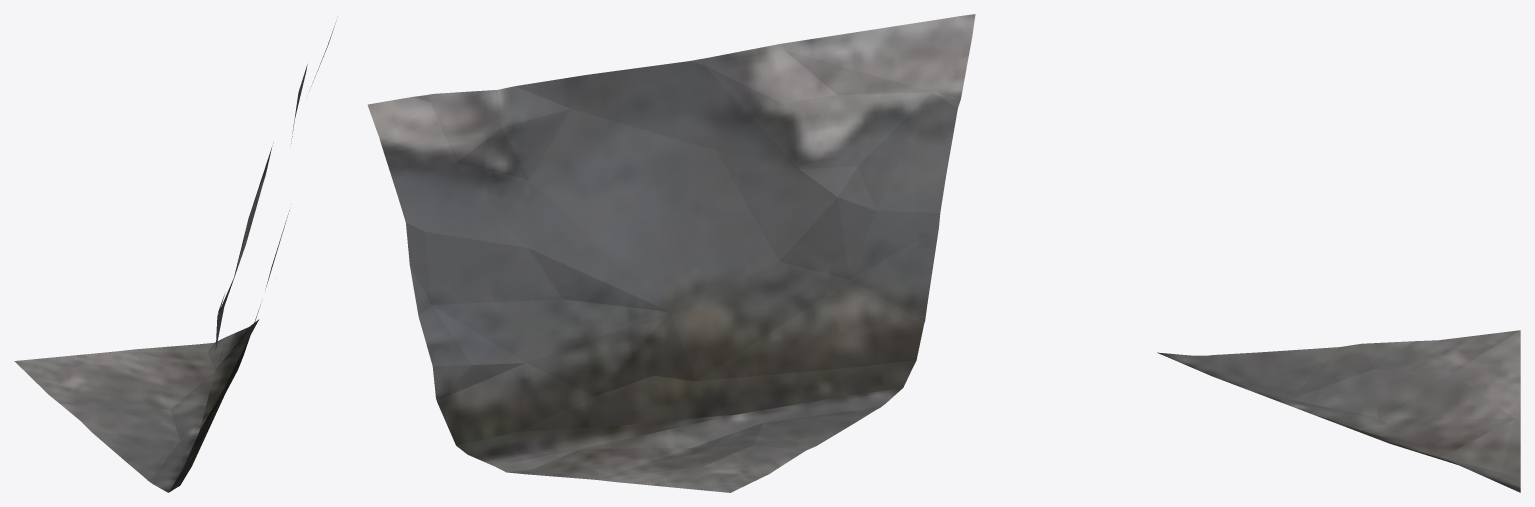
The picture shows the model from 3 angles, left to right: view 1: azimuth 30°, elevation 25°; view 2: azimuth 150°, elevation 25°; view 3: azimuth 270°, elevation 25°; orthographic projection. The views are drawn at different scales.
Bounding box in the file's own units: 0.2424 × 0.2129 × 0.283.
1 material, 1 textured.
